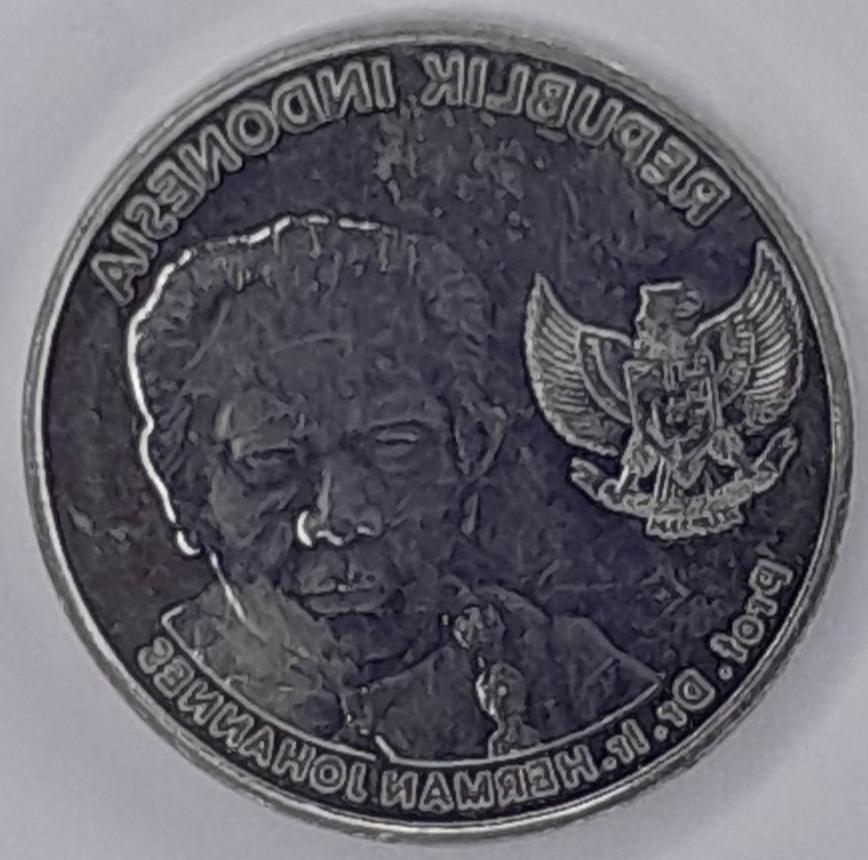coin_100_e2016: (17, 15, 861, 844)
